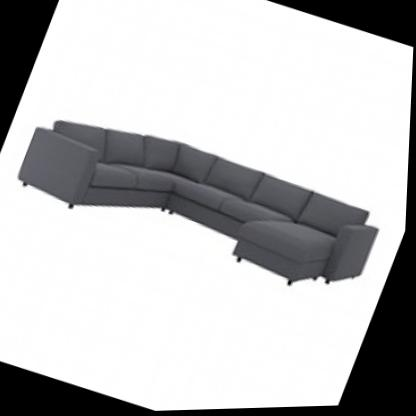Sofa: (3, 88, 395, 315)
